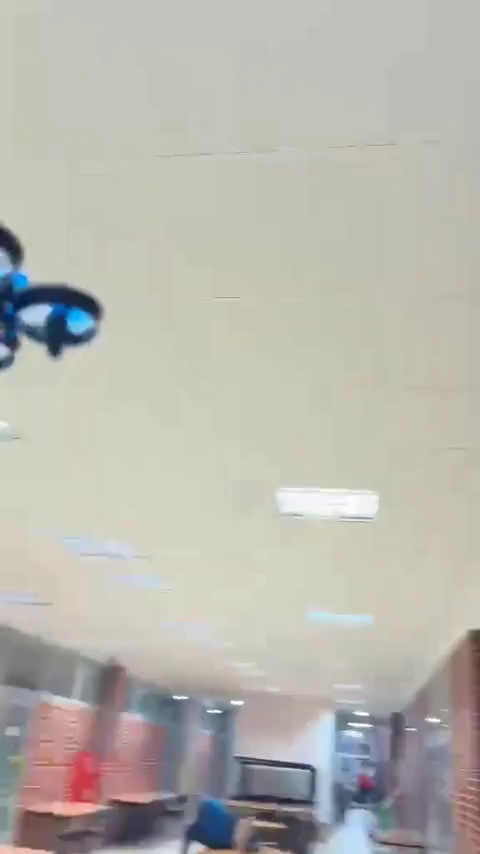drone: (0, 225, 102, 385)
